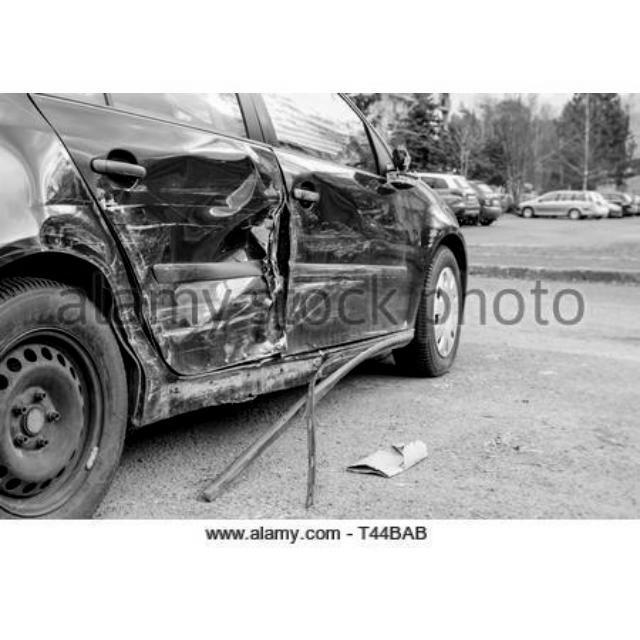Runningboard-Damage: (131, 377, 266, 425), (269, 347, 389, 385)
doorouter-dent: (132, 141, 279, 362), (286, 162, 411, 344)
